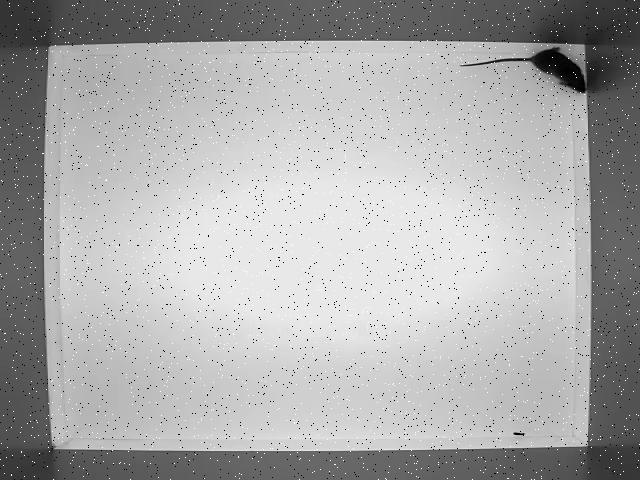Tikus: (459, 44, 587, 96)
